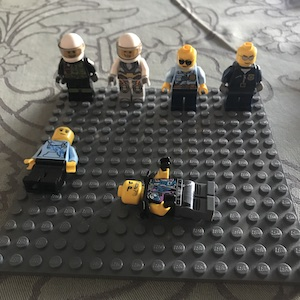Lego: (115, 170, 217, 223), (23, 126, 81, 192), (219, 39, 262, 109), (55, 32, 99, 100), (162, 44, 207, 110), (110, 33, 149, 103)
